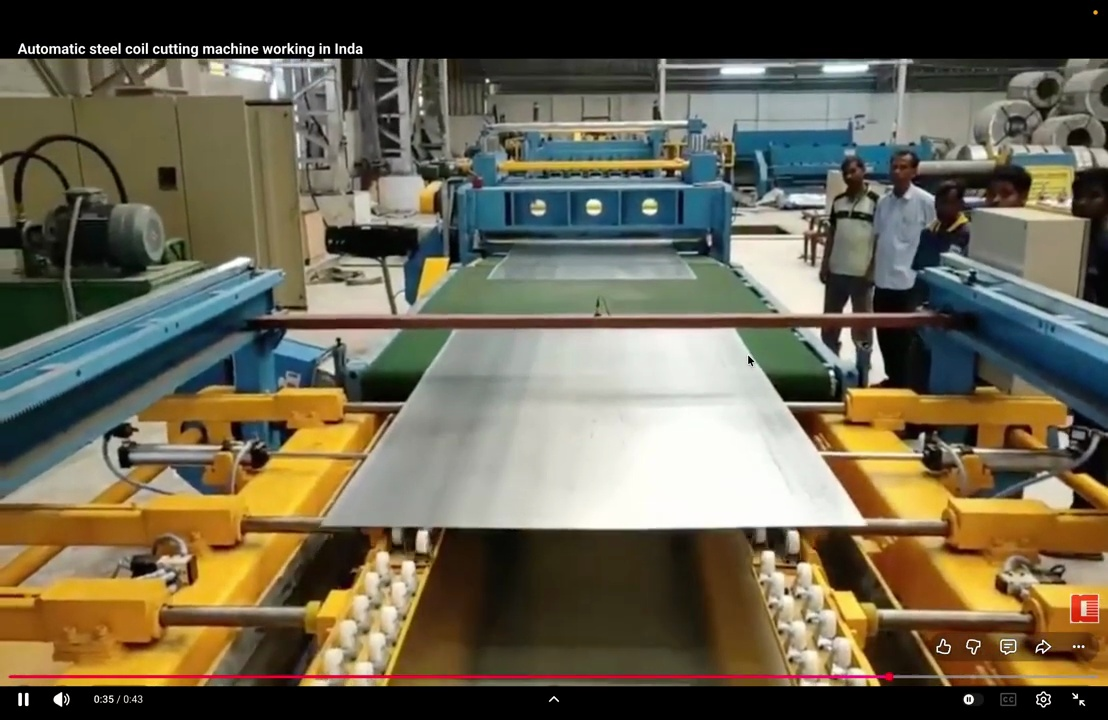steel plate: (324, 330, 862, 529), (488, 241, 694, 280)
